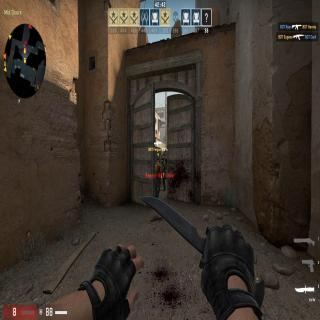CT-Body: (163, 158, 167, 192), (161, 156, 165, 178)
CT-Head: (165, 158, 167, 163), (162, 157, 164, 162)
